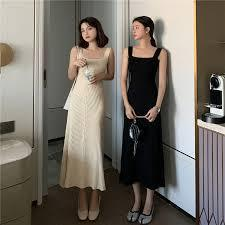dress: (113, 41, 183, 191), (58, 46, 118, 194)
